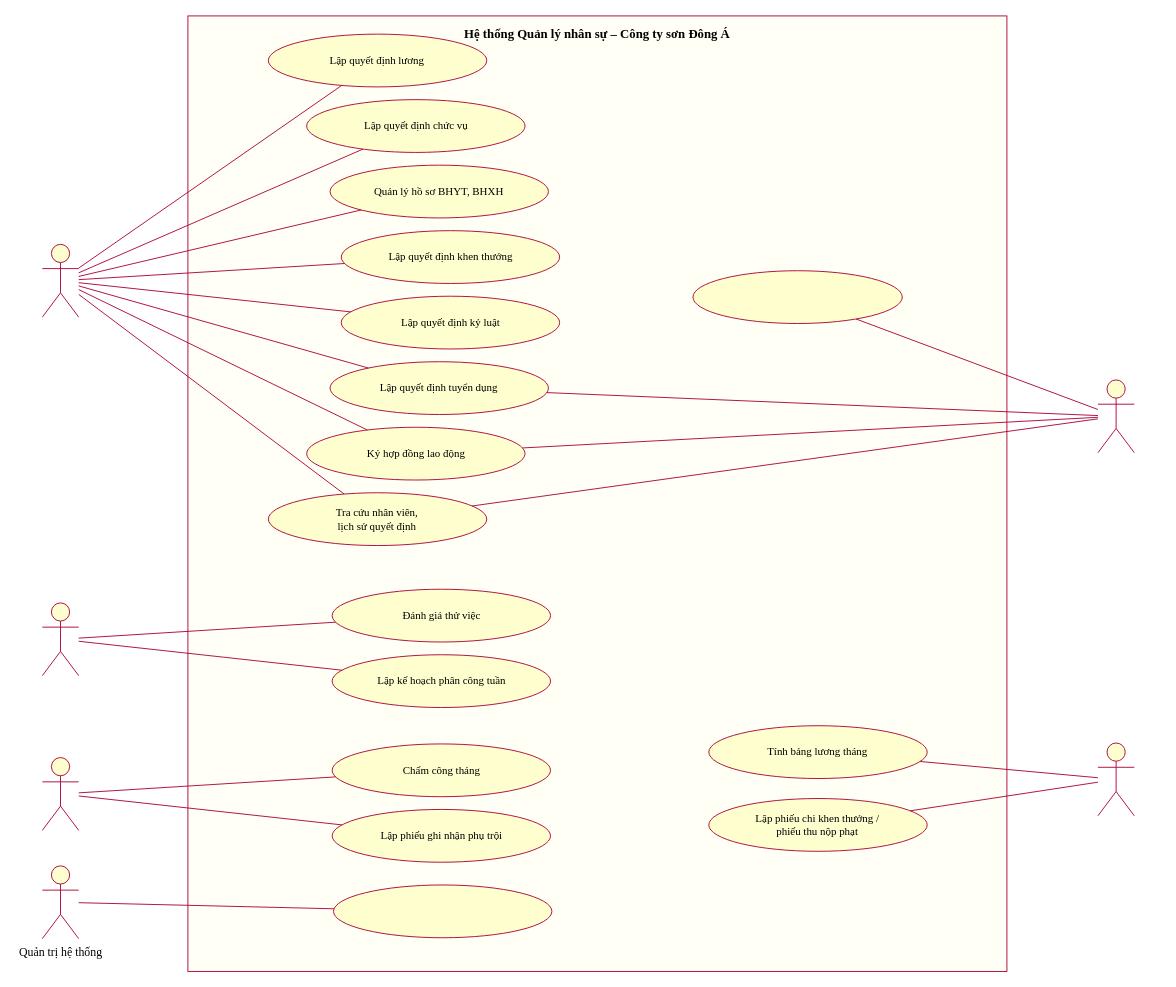
Image size: 1176x987. Some labels were removed from this diagram. Each missing label, with the box of its shape:
Ban chấm công: (41, 757, 79, 830)
Giám đốc: (1097, 379, 1134, 453)
Ký duyệt quyết định: (692, 270, 902, 324)
Kế toán tiền lương: (1097, 742, 1134, 816)
NV phòng nhân sự: (41, 243, 79, 317)
Quản lý danh mục (phòng ban, chức vụ, ca): (333, 884, 552, 938)
Trưởng phòng ban: (41, 602, 79, 676)
